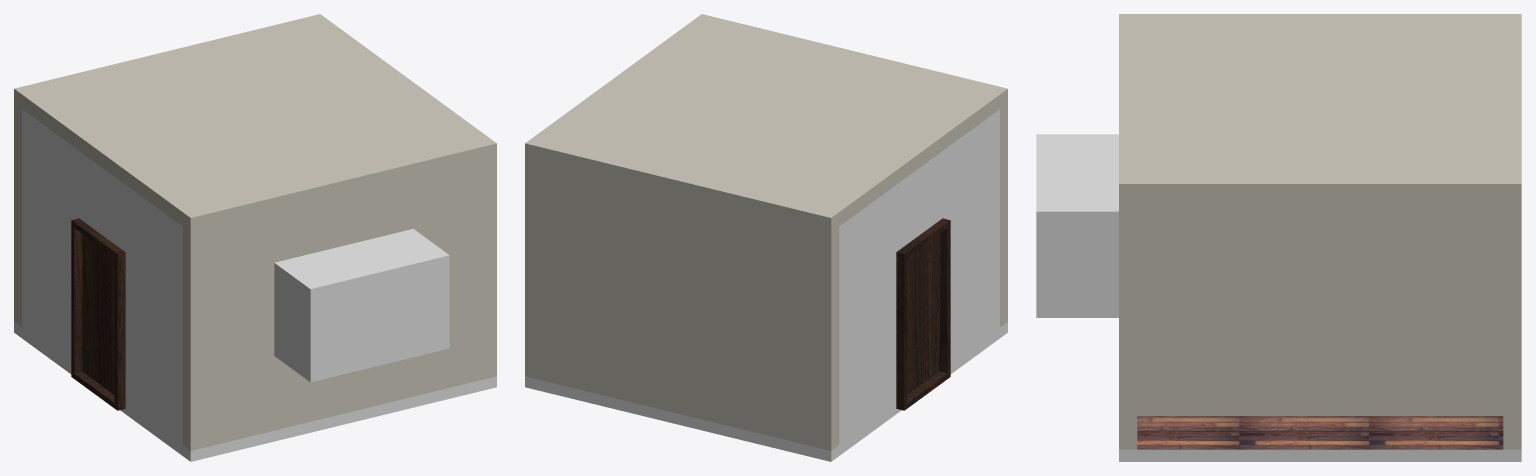
The model's file is soba5.fbx.
3 renders of one model, left to right at view 1: azimuth 30°, elevation 25°; view 2: azimuth 150°, elevation 25°; view 3: azimuth 270°, elevation 25°, orthographic. The views are drawn at different scales.
Visible parts, largest first — view 1: tavan, sidewall2, sidewall1, dupka_za_prozor, floor, door_frame, door, sidewall4; view 2: sidewall4, tavan, sidewall1, floor, door_frame, door, sidewall2; view 3: sidewall3, tavan, floor, dupka_za_prozor, sidewall4, sidewall2.
Part boxes in pixels (x1,y1,x2,y2): tavan: (14,14,496,232); sidewall2: (182,158,496,450); sidewall1: (22,109,182,444); dupka_za_prozor: (274,229,449,382); floor: (14,322,496,461); door_frame: (71,218,125,410); door: (82,234,114,394); sidewall4: (14,103,21,326); sidewall4: (525,158,839,450); tavan: (525,14,1007,232); sidewall1: (839,109,999,444); floor: (525,322,1007,461); door_frame: (896,218,950,410); door: (907,234,939,394); sidewall2: (1000,103,1007,326); sidewall3: (1137,200,1503,415); tavan: (1119,14,1521,200); floor: (1119,416,1521,461); dupka_za_prozor: (1036,134,1118,317); sidewall4: (1503,200,1521,449); sidewall2: (1119,200,1137,449).
Size of the model in its own units: 4.51 by 5.3 by 3.35.
Materials: 17 (7 with a texture image).
